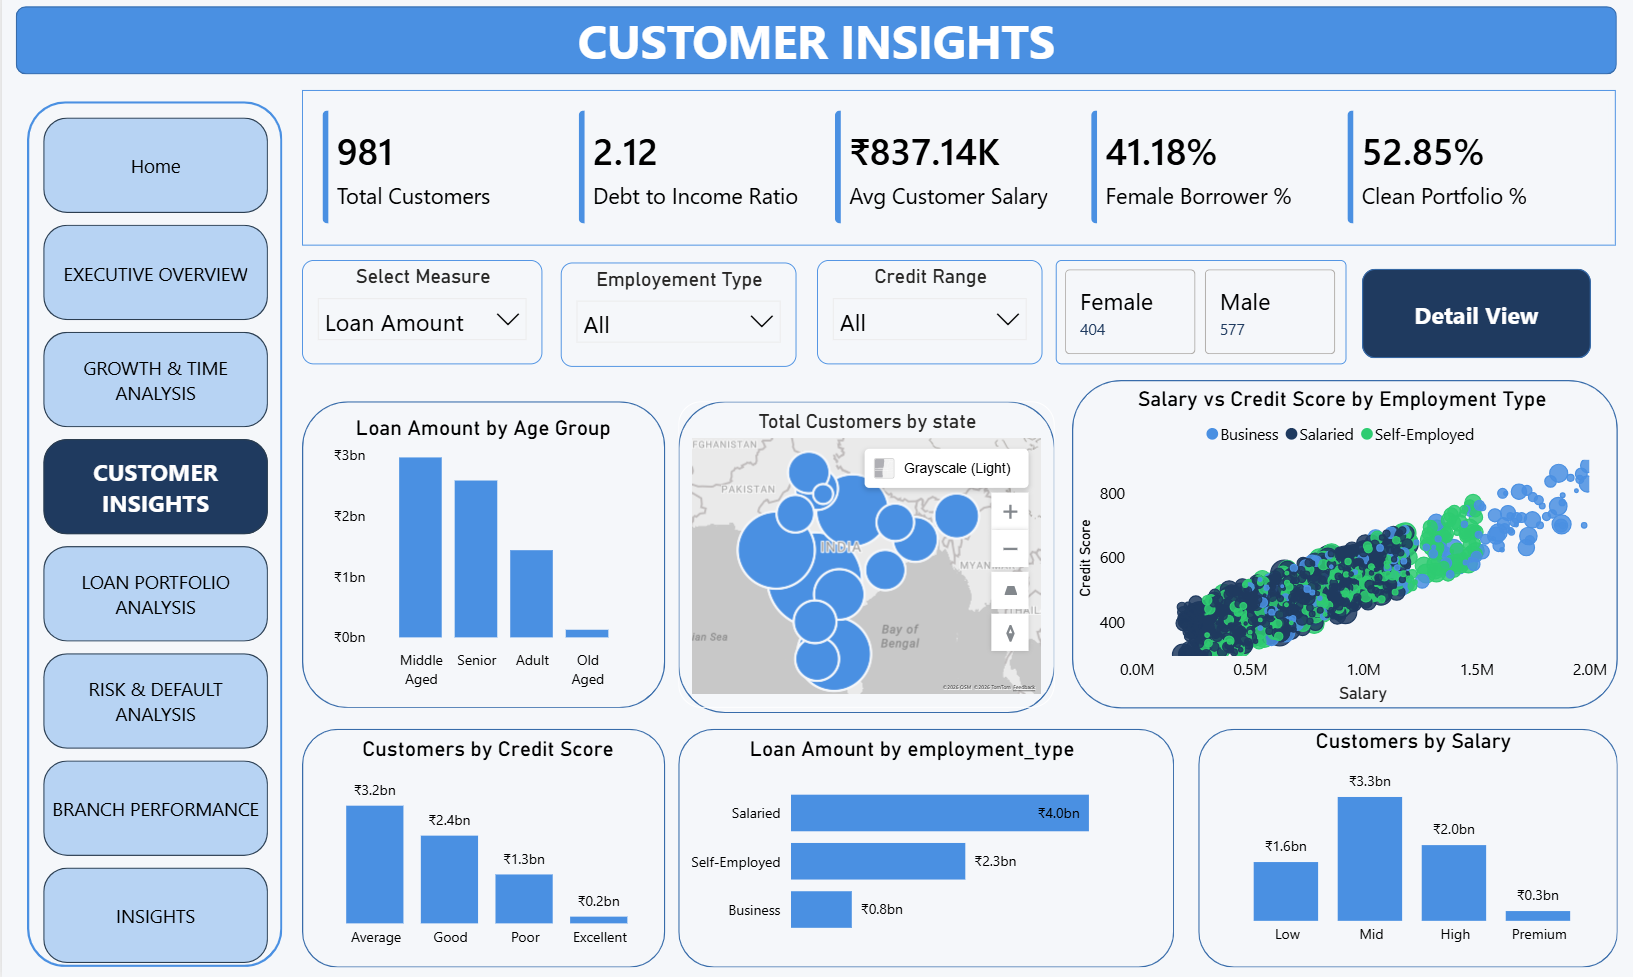

The dashboard page shown, as its layout file describes it:
{"tool":"powerbi","page":{"name":"CUSTOMER INSIGHTS","canvas":[1400,850],"ordinal":3},"visuals":[{"type":"shape","box":[21.4,95.4,219.3,743.5],"z":0,"group":"g1"},{"type":"shape","box":[257.8,353.2,311.9,263.5],"z":0},{"type":"shape","box":[581.1,353.2,323.3,267.8],"z":1000},{"type":"shape","box":[1026.9,633.8,360.3,205.1],"z":2000},{"type":"shape","box":[581.1,633.8,425.9,205.1],"z":3000},{"type":"shape","box":[257.8,633.8,311.9,205.1],"z":4000},{"type":"shape","box":[918.7,334.7,468.6,282],"z":5000},{"type":"shape","box":[12,13.5,1374.8,58.5],"z":6000},{"type":"cardVisual","fields":{"Data":["_Measures.Total Unique Customers","_Measures.Debt to Income Ratio","_Measures.Avg Customer Salary","_Measures.Female Borrower %","_Measures.Clean Portfolio %"]},"box":[257.8,85.5,1128,133.9],"z":7000},{"type":"scatterChart","title":"Salary vs Credit Score by Employment Type","fields":{"X":["Customers.salary"],"Y":["Customers.credit_score"],"Size":["Sum(Loans.loan_amount)"],"Series":["Customers.employment_type"]},"box":[918.7,340.4,464.3,276.3],"z":8000},{"type":"clusteredBarChart","fields":{"Y":["_Measures.Total Loan Amount"],"Category":["Customers.employment_type"]},"box":[581.1,640.9,401.6,188],"z":9000},{"type":"clusteredColumnChart","title":"Customers by Credit Score","fields":{"Y":["_Measures.Total Loan Amount"],"Category":["Customers.Credit Band"]},"box":[264.9,640.9,304.8,190.9],"z":10000},{"type":"clusteredColumnChart","title":"Customers by Salary ","fields":{"Y":["_Measures.Total Loan Amount"],"Category":["Customers.Salary Band"]},"box":[1041.1,633.8,341.8,195.1],"z":11000},{"type":"lineClusteredColumnComboChart","fields":{"Y":["_Measures.Total Loan Amount"],"Category":["Customers.Age Group"]},"box":[280.6,364.6,266.3,242.1],"z":12000},{"type":"advancedSlicerVisual","fields":{"Values":["Customers.gender"],"Label":["_Measures.Total Unique Customers"]},"box":[904.4,232.2,249.2,89.7],"z":13000},{"type":"pageNavigator","box":[35.6,109.5,193.7,726.6],"z":14000,"group":"g1"},{"type":"slicer","title":"Select Measure","fields":{"Values":["Customer Insights - Select Measure.Customer Insights - Select Measure"]},"box":[257.8,232.2,206.5,89.7],"z":14000},{"type":"azureMap","title":"Total Customers by state","fields":{"Category":["Customers.state"],"Size":["_Measures.Total Unique Customers"]},"box":[581.1,353.2,323.3,263.5],"z":15000},{"type":"shape","box":[1167.9,239.3,196.5,76.9],"z":16000},{"type":"group","id":"g1","title":"Group 1","box":[21.4,95.4,219.3,743.5],"z":17000},{"type":"slicer","title":"Employement Type","fields":{"Values":["Customers.employment_type"]},"box":[480,233.6,202.2,89.7],"z":18000},{"type":"slicer","title":"Credit Range","fields":{"Values":["Customers.Credit Band"]},"box":[699.3,232.2,193.7,89.7],"z":19000}]}

Visuals, with their boxes in screenshot pixels (x1, y1, x2, y2), scaled from the page's 1400x850 canvas onto the 1633x977 screenshot:
shape: box(25, 110, 281, 964)
shape: box(301, 406, 665, 709)
shape: box(678, 406, 1055, 714)
shape: box(1198, 728, 1618, 964)
shape: box(678, 728, 1175, 964)
shape: box(301, 728, 665, 964)
shape: box(1072, 385, 1618, 709)
shape: box(14, 16, 1618, 83)
cardVisual - _Measures.Total Unique Customers x _Measures.Debt to Income Ratio: box(301, 98, 1616, 252)
"Salary vs Credit Score by Employment Type" scatterChart: box(1072, 391, 1613, 709)
clusteredBarChart - _Measures.Total Loan Amount x Customers.employment_type: box(678, 737, 1146, 953)
"Customers by Credit Score" clusteredColumnChart: box(309, 737, 665, 956)
"Customers by Salary " clusteredColumnChart: box(1214, 728, 1613, 953)
lineClusteredColumnComboChart - _Measures.Total Loan Amount x Customers.Age Group: box(327, 419, 638, 697)
advancedSlicerVisual - Customers.gender x _Measures.Total Unique Customers: box(1055, 267, 1346, 370)
pageNavigator: box(42, 126, 267, 961)
"Select Measure" slicer: box(301, 267, 542, 370)
"Total Customers by state" azureMap: box(678, 406, 1055, 709)
shape: box(1362, 275, 1591, 363)
"Group 1" group: box(25, 110, 281, 964)
"Employement Type" slicer: box(560, 269, 796, 372)
"Credit Range" slicer: box(816, 267, 1042, 370)
